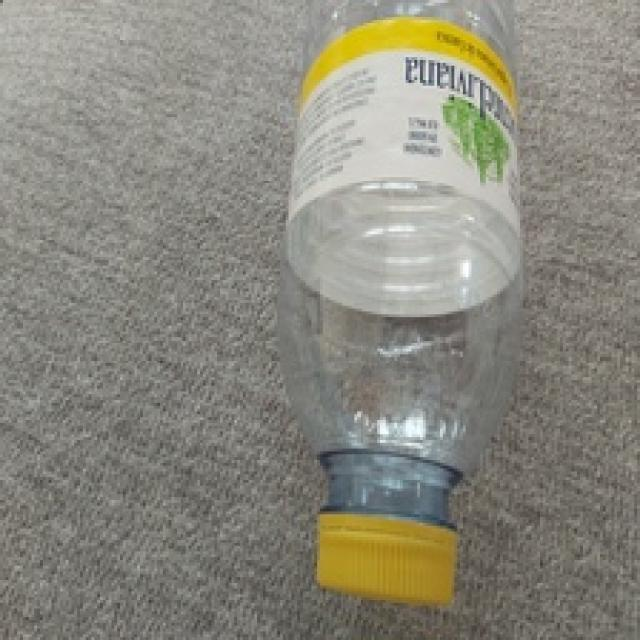Plastic: (283, 0, 522, 605)
